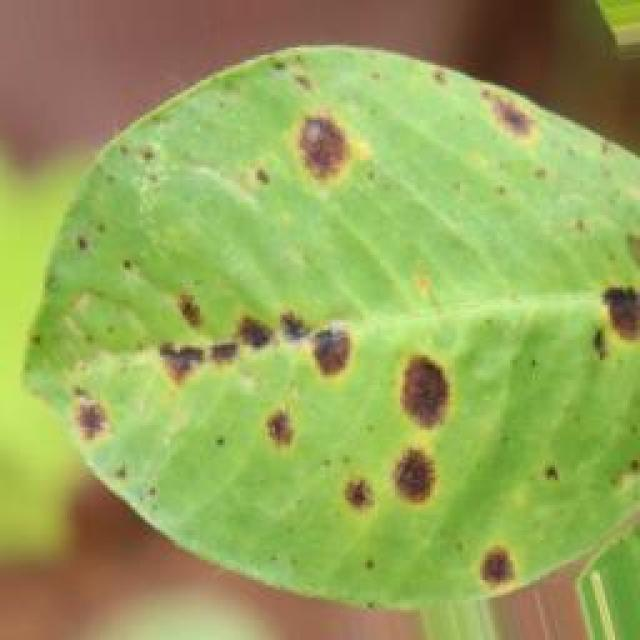Yellowish: (30, 54, 640, 599)
